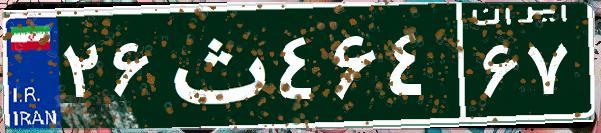2: (57, 26, 110, 107)
4: (385, 28, 445, 110), (273, 28, 330, 110)
6: (330, 28, 385, 110), (475, 38, 525, 113), (110, 28, 158, 105)
7: (525, 38, 570, 115)
ث: (158, 15, 273, 115)
